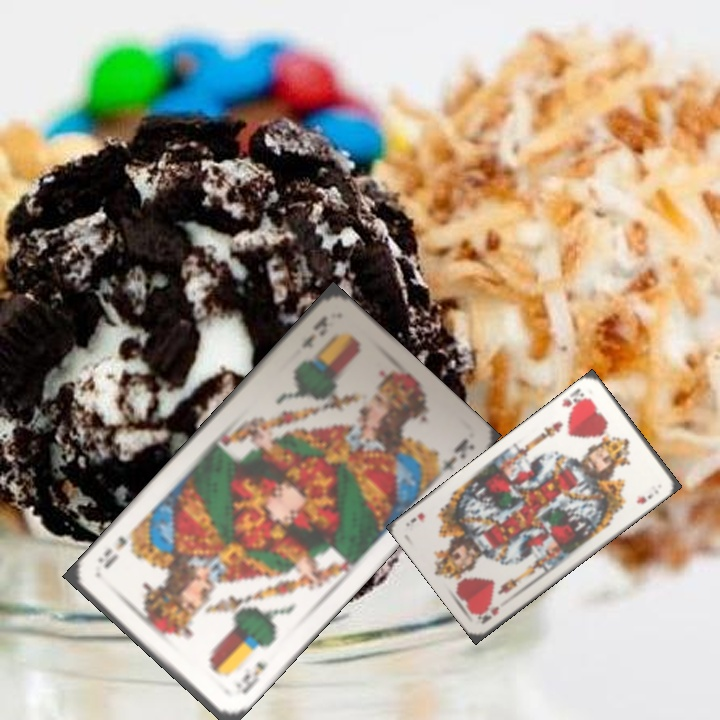EK: (297, 312, 331, 352), (237, 657, 270, 697)
HK: (558, 384, 592, 416), (474, 602, 501, 626)
